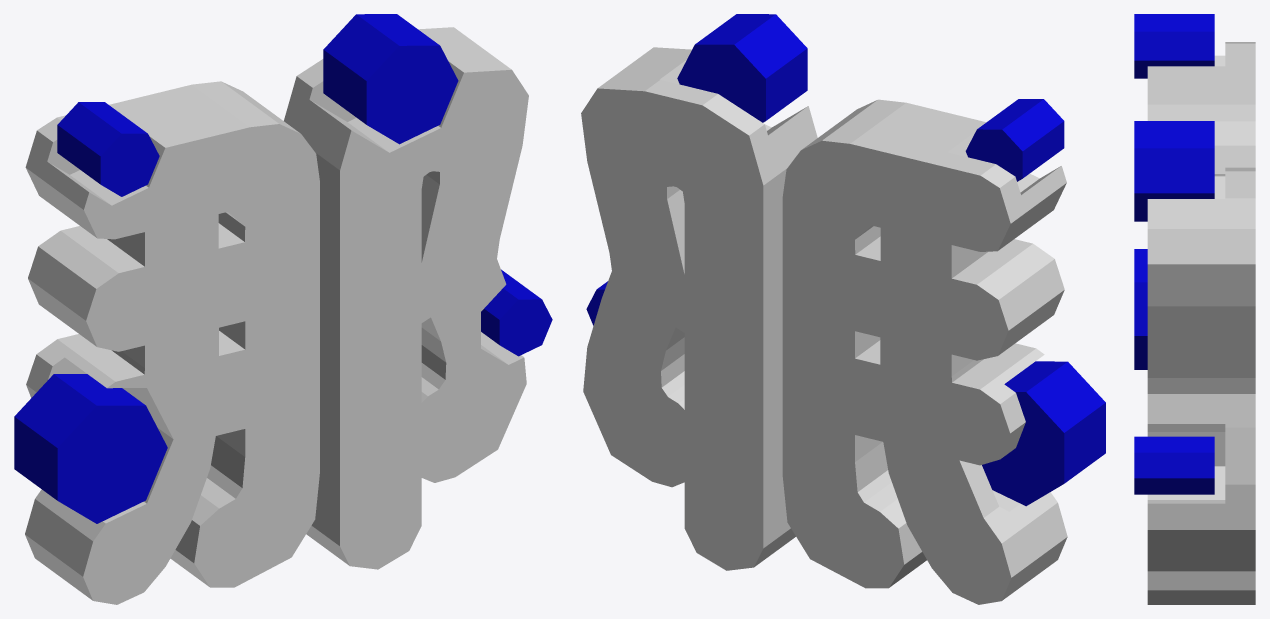
Rendered from Ch_Lite_China_那_01.fbx.
3 views of the same model, side by side, from view 1: azimuth 30°, elevation 25°; view 2: azimuth 150°, elevation 25°; view 3: azimuth 270°, elevation 25° (orthographic). The views are drawn at different scales.
Visible parts, largest first — view 1: sphere1; view 2: sphere1; view 3: sphere1.
Boxes of the visible parts, bbox=[...] form: sphere1: bbox=[14, 14, 552, 604]; sphere1: bbox=[581, 14, 1105, 604]; sphere1: bbox=[1134, 14, 1255, 604].
Size of the model in its own units: 0.9811 by 0.9951 by 0.2242.
